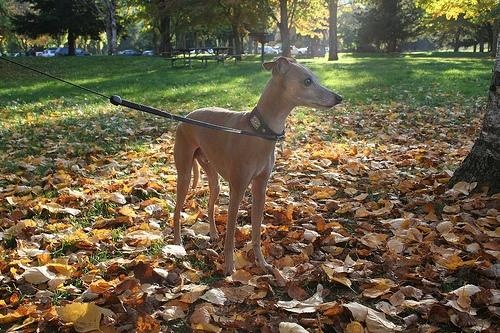dog: (171, 57, 344, 280)
